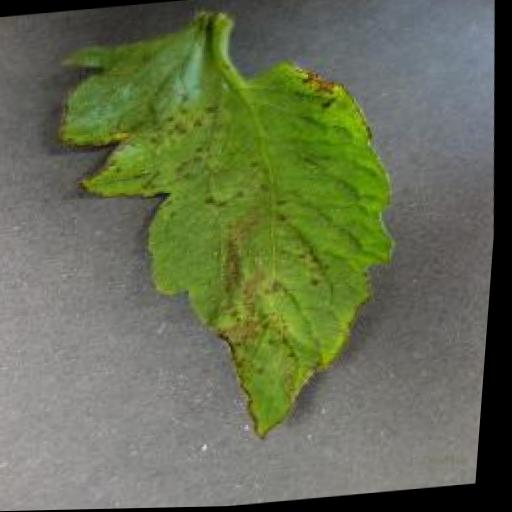Bacterial Spot: (25, 5, 434, 466)
